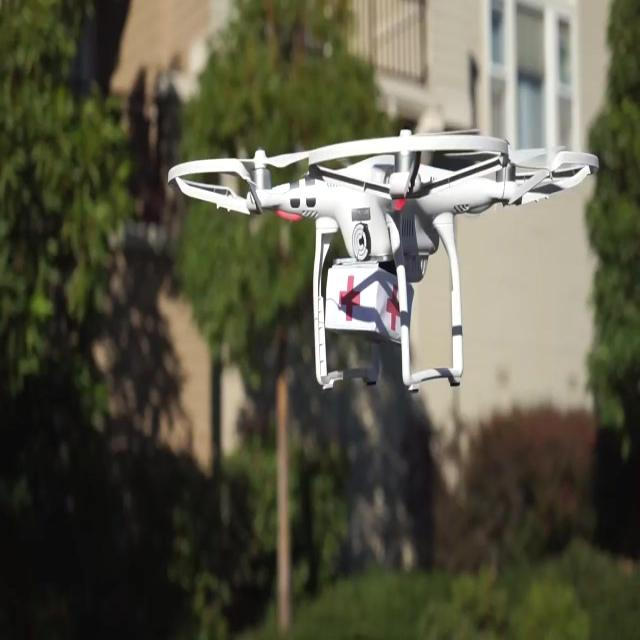drone: (164, 125, 598, 393)
